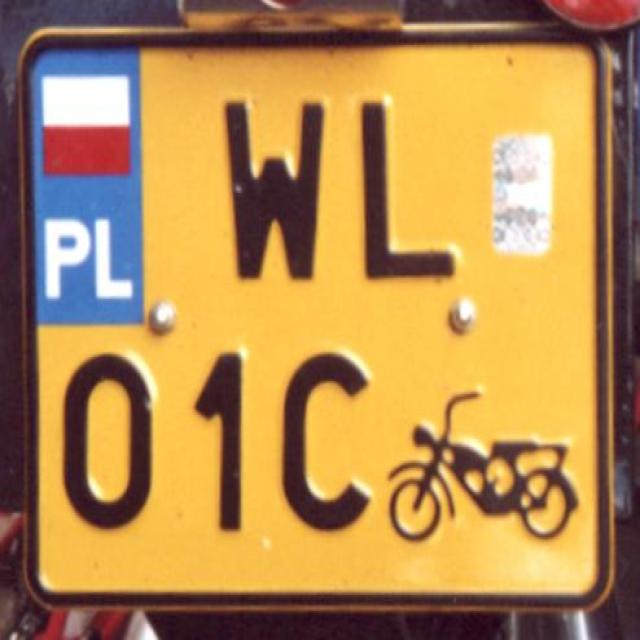pl_license_plate: (24, 36, 606, 596)
